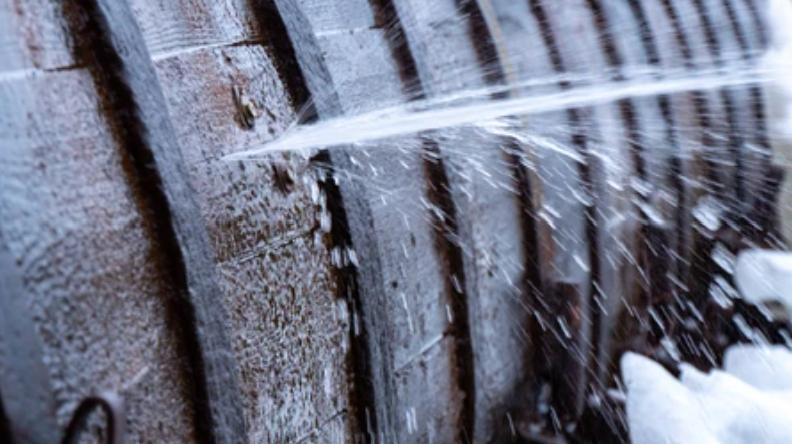pipe burst: (220, 40, 792, 163)
